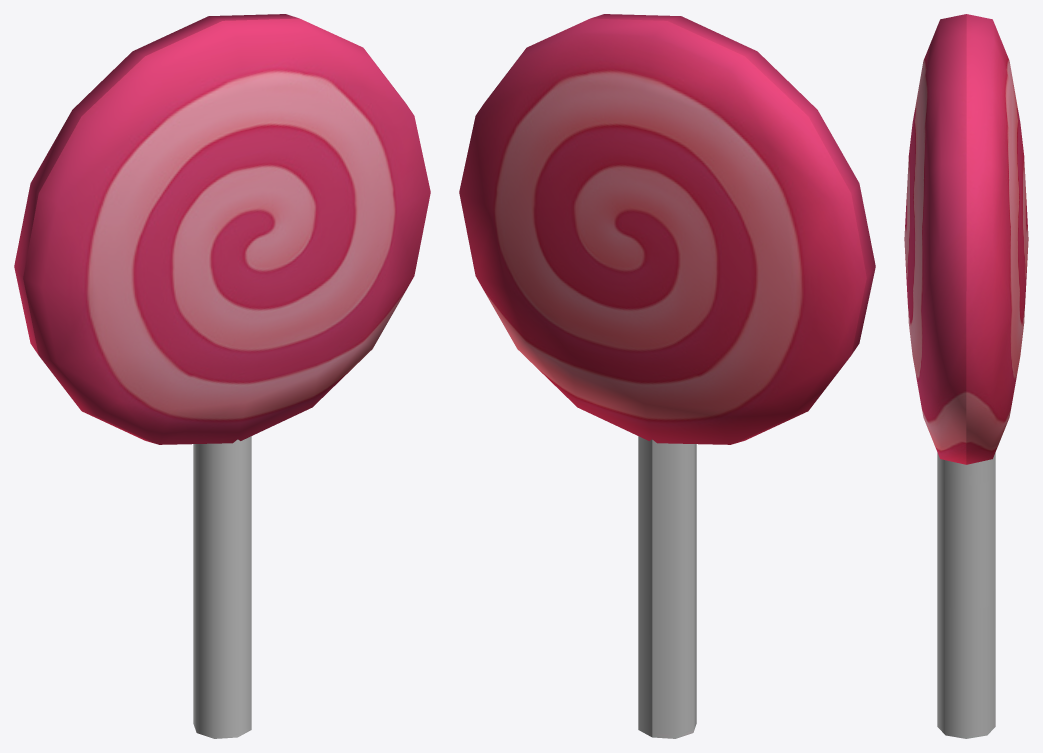
Rendered from Lollipop_1.fbx.
3 views of the same model, side by side, from view 1: azimuth 30°, elevation 25°; view 2: azimuth 150°, elevation 25°; view 3: azimuth 270°, elevation 25° (orthographic). The views are drawn at different scales.
Parts seen in each view (by area): view 1: Lollipop_1; view 2: Lollipop_1; view 3: Lollipop_1.
Part boxes in pixels (x1,y1,x2,y2): Lollipop_1: (14,14,430,738); Lollipop_1: (459,14,875,738); Lollipop_1: (904,14,1028,738).
Size of the model in its own units: 37.33 by 63.14 by 10.28.
Materials: 1 (1 with a texture image).
